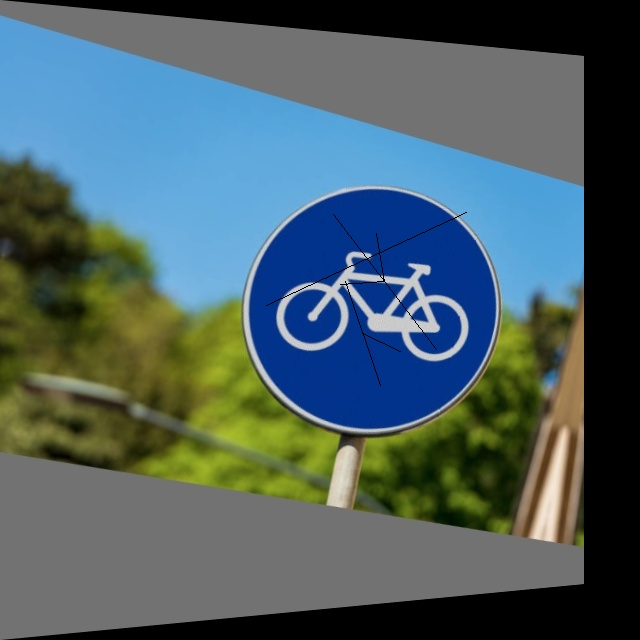Compulsory_Cycle_Track: (218, 150, 522, 471)
